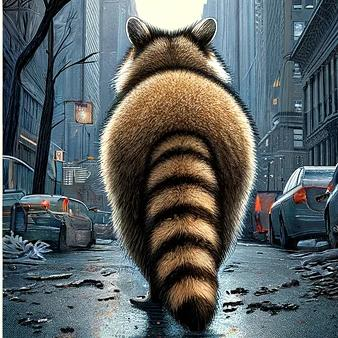raccoon: (91, 6, 268, 338)
